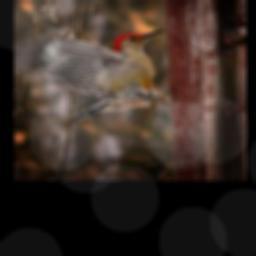Woodpecker: (16, 27, 165, 123)
